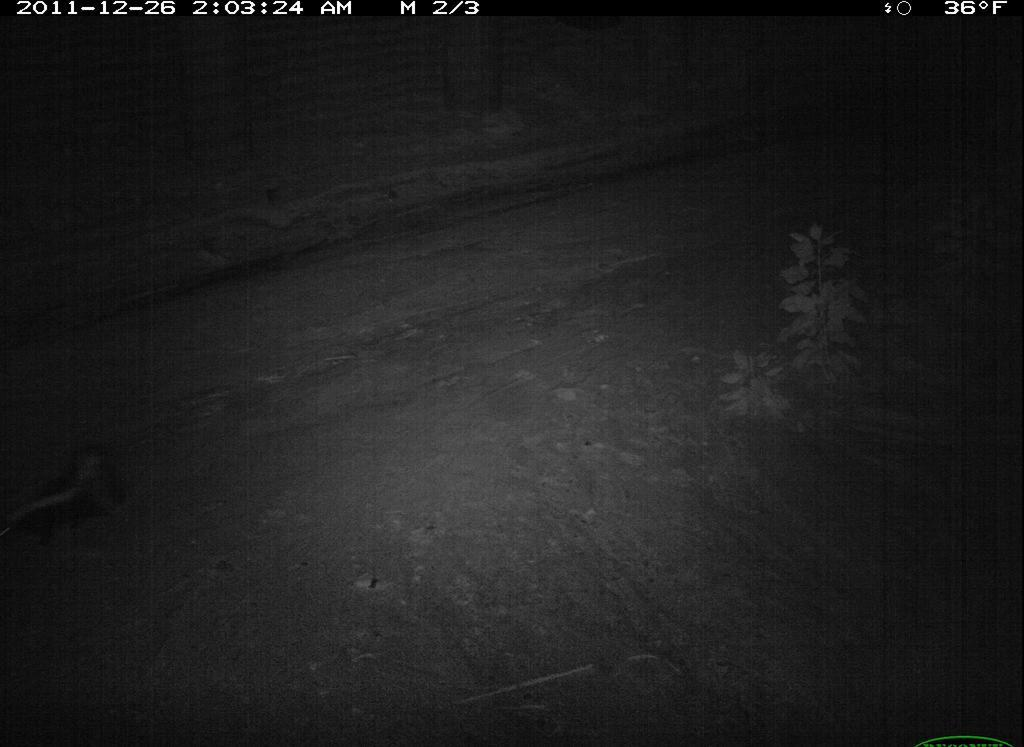skunk: (1, 423, 125, 552)
